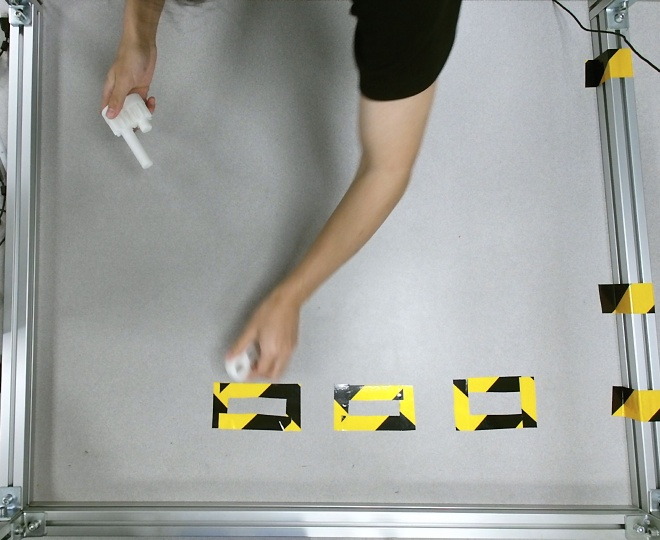stage_3: (102, 93, 153, 169)
